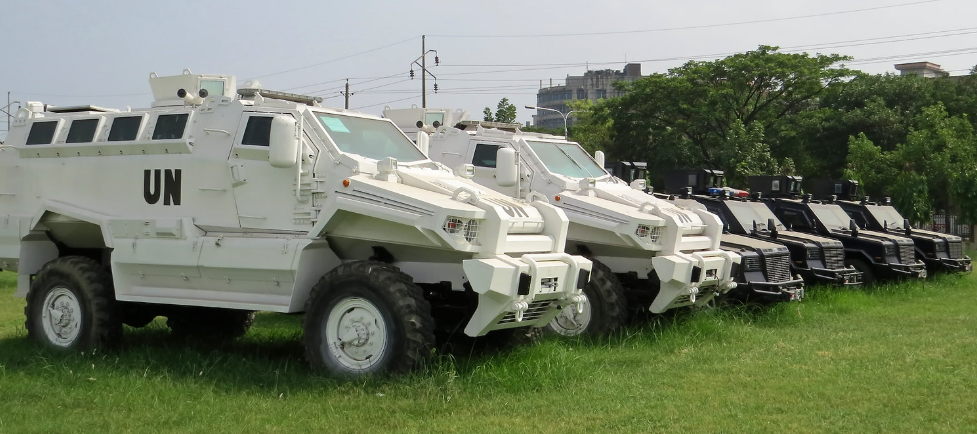Police cars: (10, 73, 591, 393), (432, 110, 745, 315), (699, 175, 973, 305)
